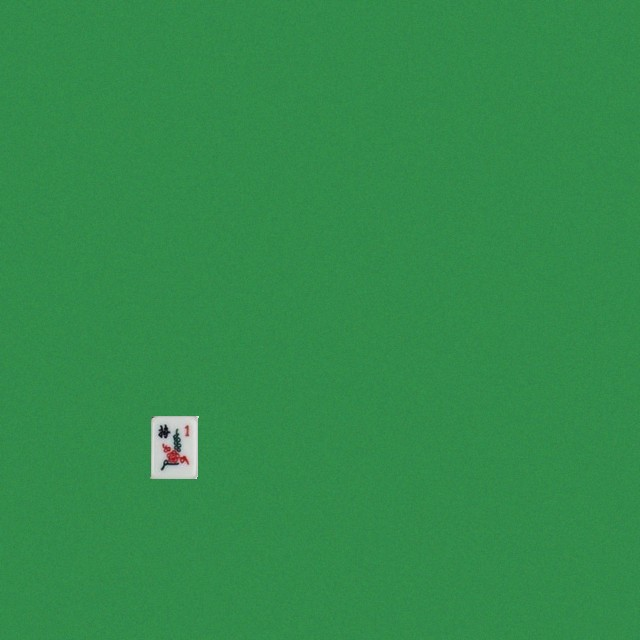tile: (150, 415, 197, 478)
